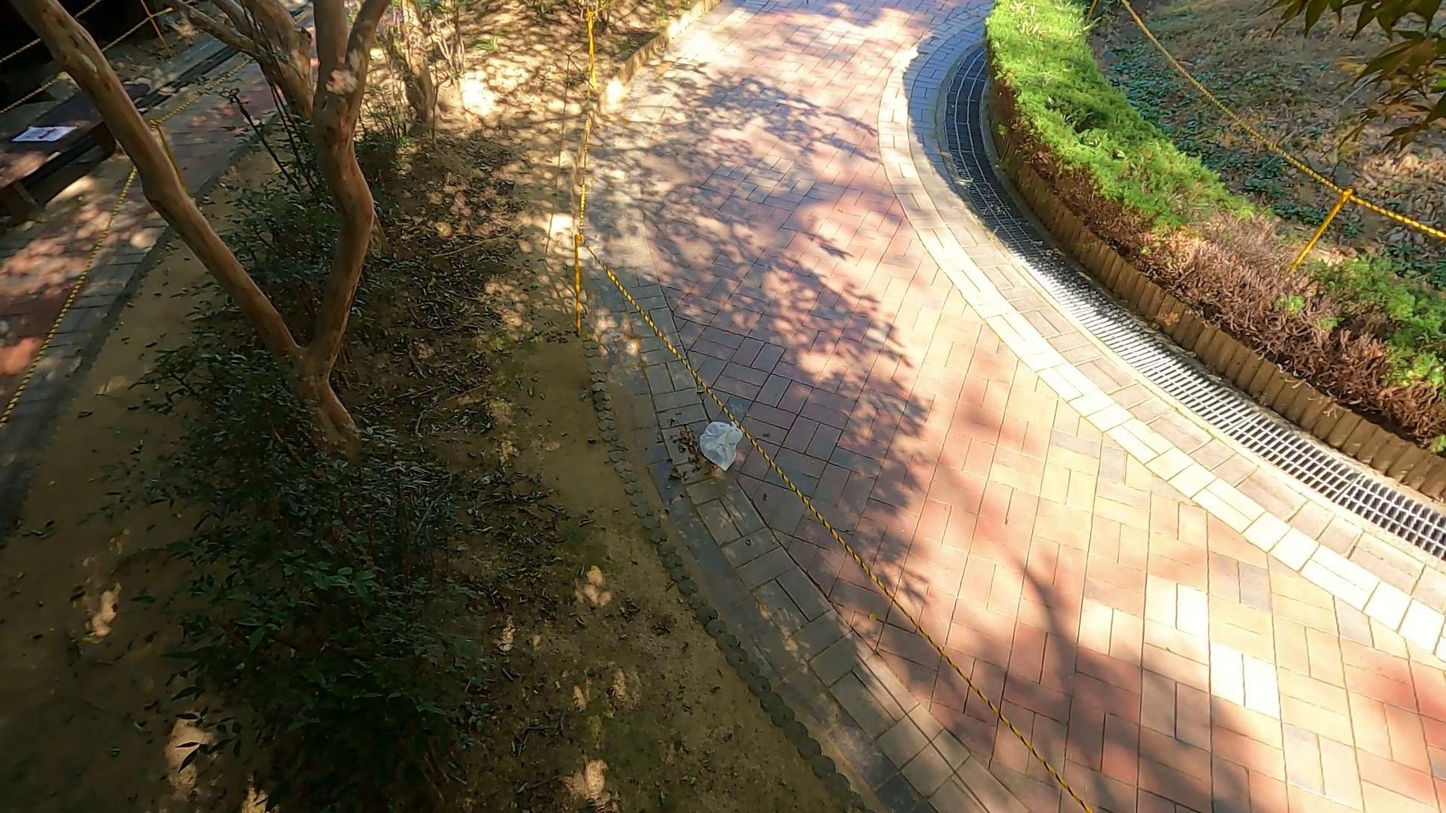trash: (695, 416, 749, 474)
